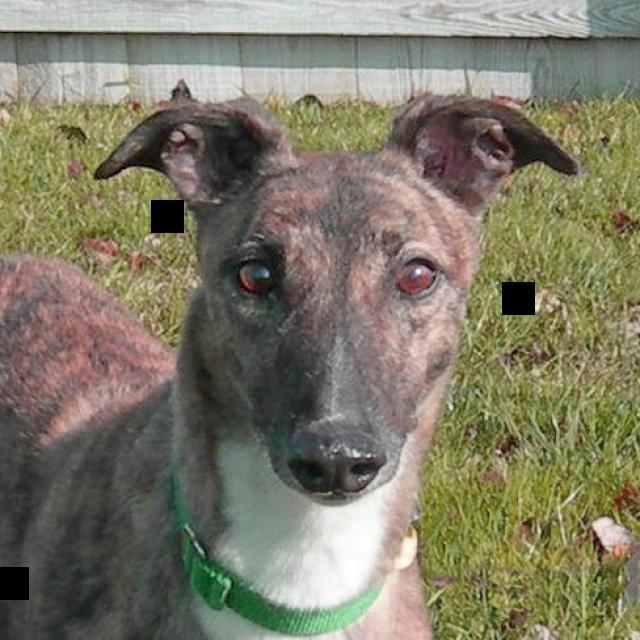adult_dog: (1, 91, 580, 640)
